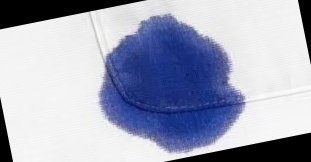ink: (103, 17, 239, 146)
